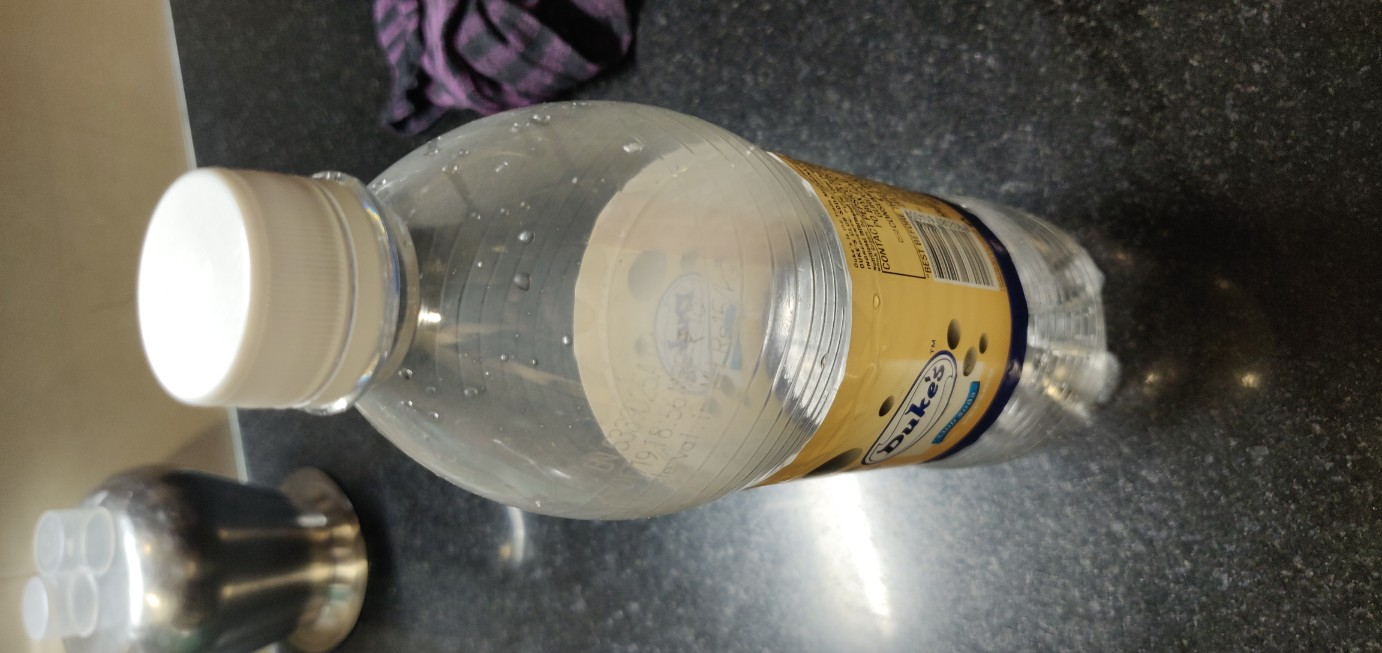Electronics: (101, 73, 1166, 537)
